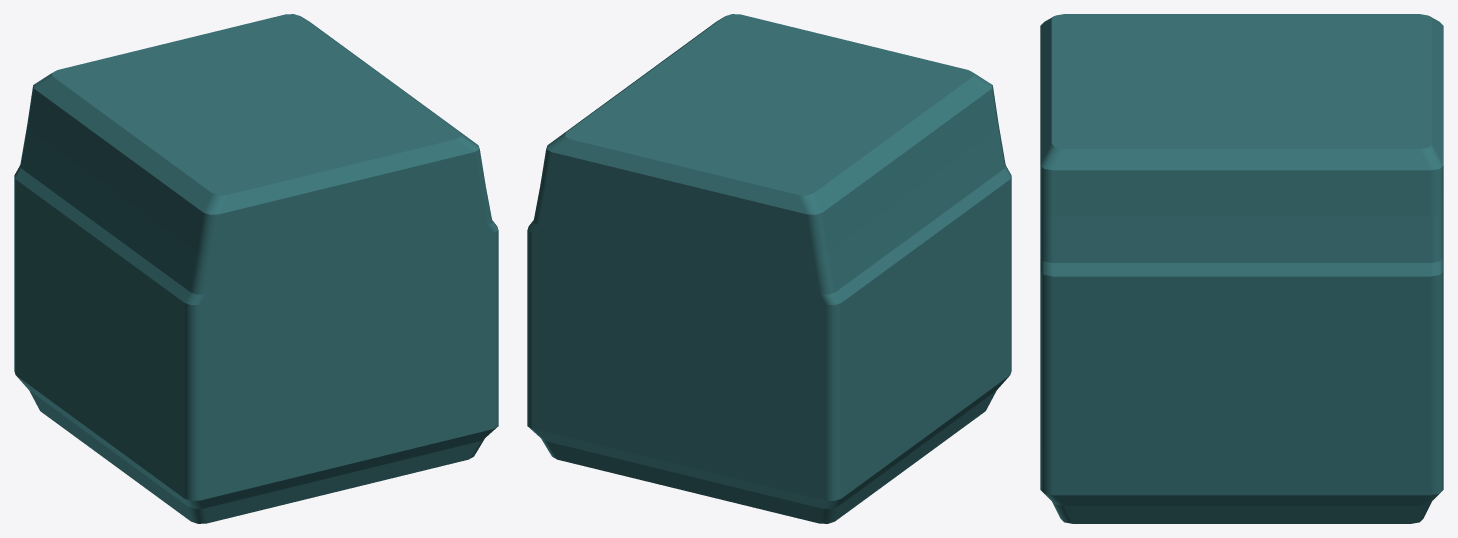
The model's file is machine-mill-unit-authored-atlas.glb.
3 views of the same model, side by side, from view 1: azimuth 30°, elevation 25°; view 2: azimuth 150°, elevation 25°; view 3: azimuth 270°, elevation 25° (orthographic). The views are drawn at different scales.
Visible parts, largest first — view 1: Authored surface; view 2: Authored surface; view 3: Authored surface.
Part boxes in pixels (x1=…): Authored surface: x1=14, y1=14, x2=498, y2=523; Authored surface: x1=527, y1=14, x2=1011, y2=523; Authored surface: x1=1040, y1=14, x2=1443, y2=523.
Bounding box in the file's own units: 1 × 1 × 1.
1 material, 1 textured.
